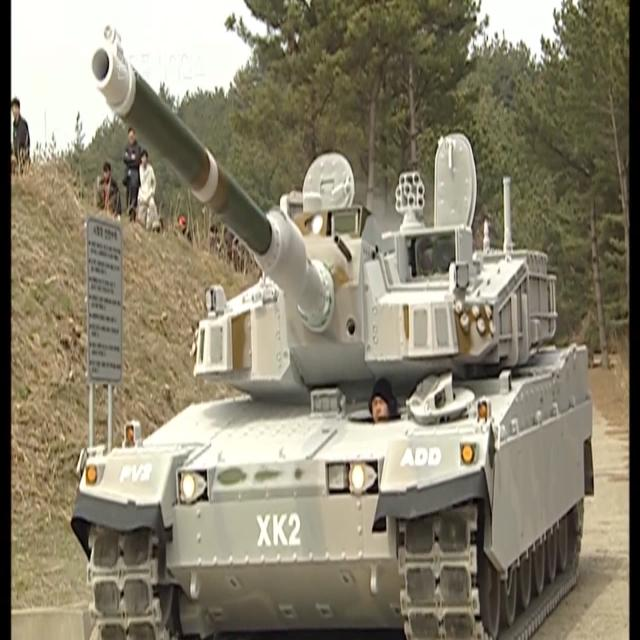korea tank: (69, 21, 597, 640)
